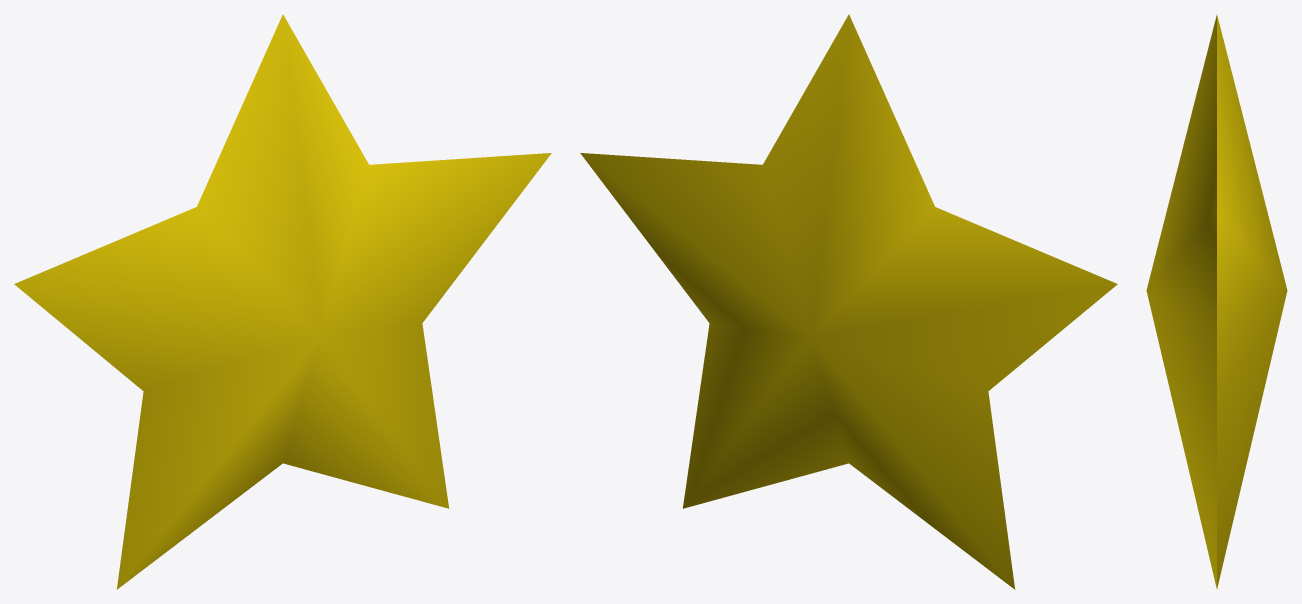
The model's file is Star.fbx.
3 views of the same model, side by side, from view 1: azimuth 30°, elevation 25°; view 2: azimuth 150°, elevation 25°; view 3: azimuth 270°, elevation 25° (orthographic). The views are drawn at different scales.
Parts seen in each view (by area): view 1: Star; view 2: Star; view 3: Star.
Part boxes in pixels (box(x1,y1,x2,y2)): Star: box(14, 14, 551, 589); Star: box(580, 14, 1117, 589); Star: box(1146, 15, 1287, 588).
Size of the model in its own units: 0.3323 by 0.0807 by 0.316.
